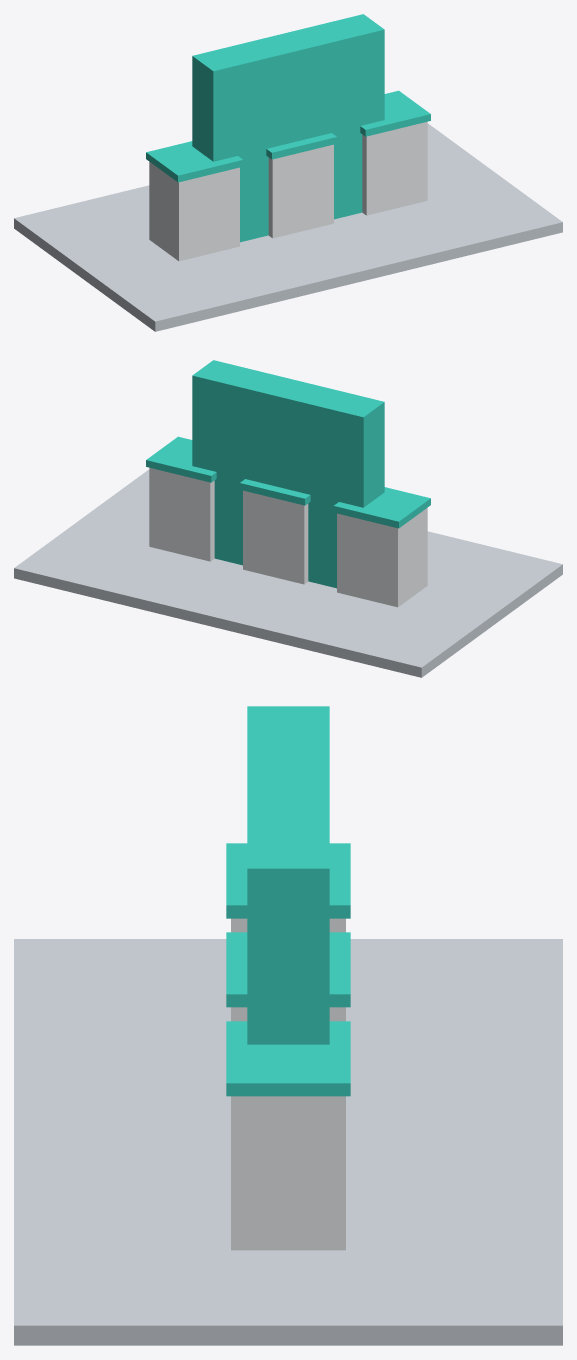
3 renders of one model, top to bottom at view 1: azimuth 30°, elevation 25°; view 2: azimuth 150°, elevation 25°; view 3: azimuth 270°, elevation 25°, orthographic. The views are drawn at different scales.
Visible parts, largest first — view 1: Exhibition Booth Concept; view 2: Exhibition Booth Concept; view 3: Exhibition Booth Concept.
Part boxes in pixels (x1,y1,x2,y2): Exhibition Booth Concept: (14,14,562,331); Exhibition Booth Concept: (14,360,562,677); Exhibition Booth Concept: (14,706,562,1345).
Bounding box in the file's own units: 5 × 2.2 × 3.
